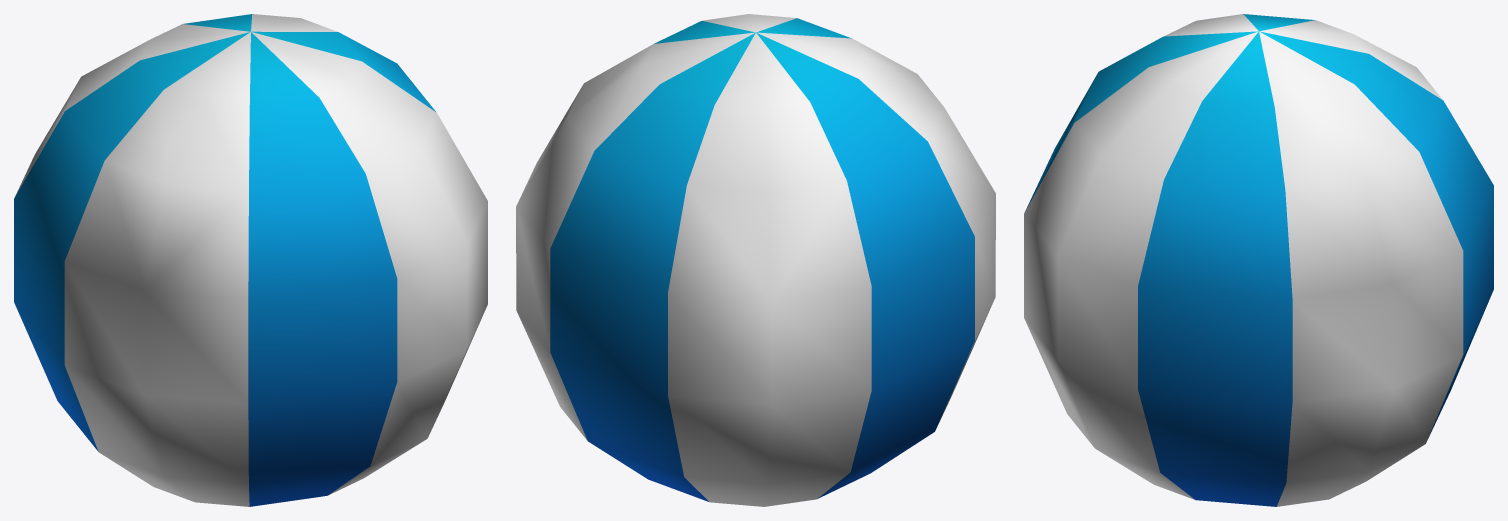
Rendered from BolaPantai2.fbx.
3 views of the same model, side by side, from view 1: azimuth 30°, elevation 25°; view 2: azimuth 150°, elevation 25°; view 3: azimuth 270°, elevation 25° (orthographic).
Parts seen in each view (by area): view 1: Bola; view 2: Bola; view 3: Bola.
Part boxes in pixels (box(x1,y1,x2,y2)): Bola: box(14, 14, 487, 506); Bola: box(516, 14, 995, 506); Bola: box(1024, 14, 1493, 506).
Size of the model in its own units: 29.51 by 32.14 by 29.51.
